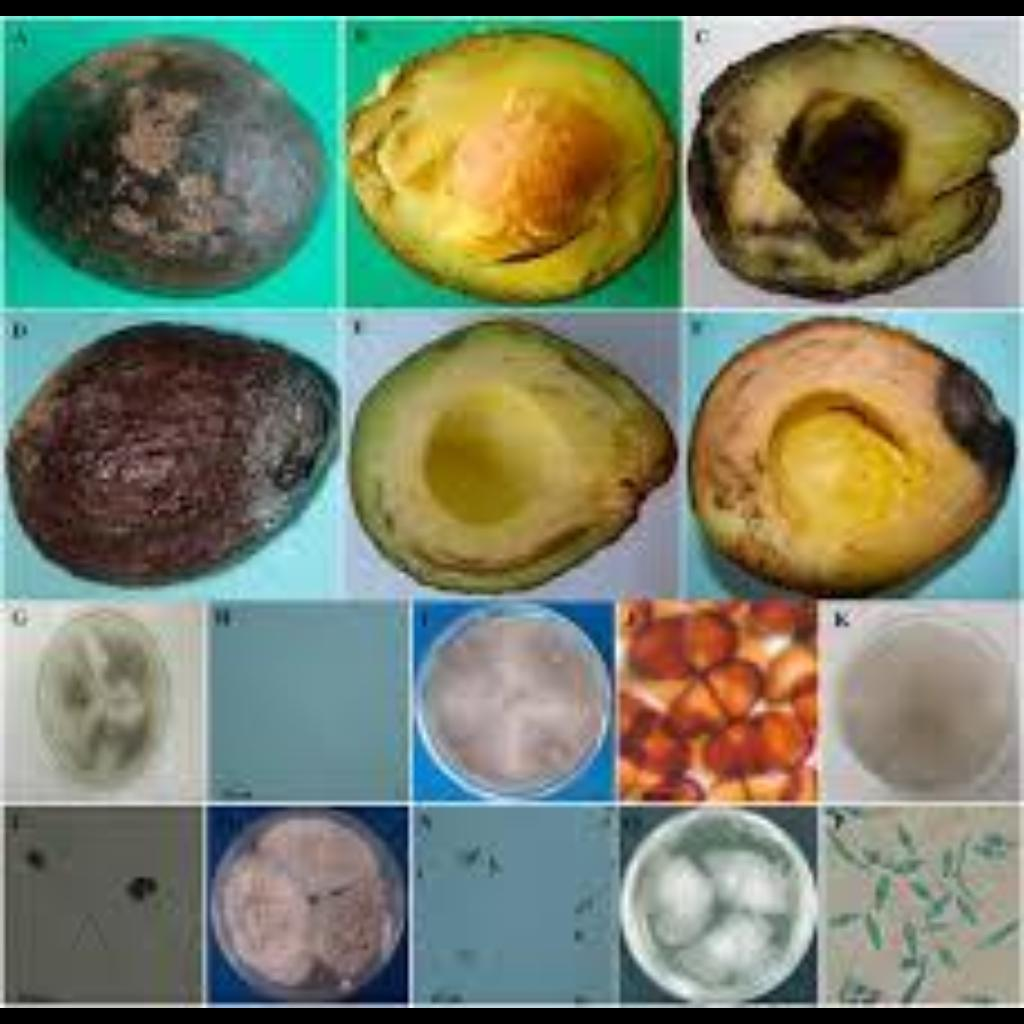Anthracnose: (25, 22, 357, 274), (701, 36, 1015, 278)
